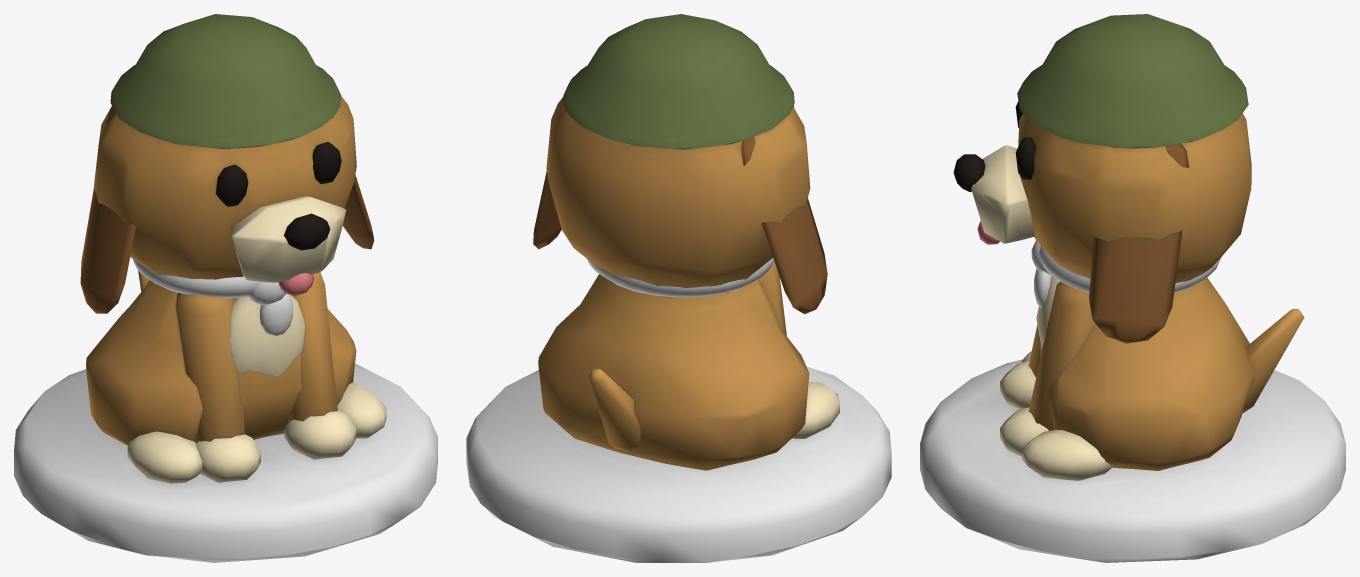
The model's file is dog.glb.
3 renders of one model, left to right at view 1: azimuth 30°, elevation 25°; view 2: azimuth 150°, elevation 25°; view 3: azimuth 270°, elevation 25°, orthographic.
Parts seen in each view (by area): view 1: TeamColor_Base, Head, Helmet, Body, Leg_Front_R, Muzzle, Ear_R, Leg_Front_L, Belly, TeamColor_Scarf, Paw_Hind_R, Paw_Front_L (+7 smaller); view 2: TeamColor_Base, Body, Head, Helmet, Ear_R, Tail, TeamColor_Scarf, Paw_Hind_R, Ear_L, Leg_Front_R; view 3: TeamColor_Base, Body, Head, Helmet, Ear_L, Leg_Front_L, Muzzle, Paw_Hind_L, Tail, TeamColor_Scarf, Paw_Front_L, Paw_Front_R (+3 smaller).
Part boxes in pixels (left/top/right/bottom): TeamColor_Base: left=14, top=363, right=437, bottom=562; Head: left=94, top=96, right=356, bottom=279; Helmet: left=110, top=14, right=341, bottom=149; Body: left=86, top=280, right=356, bottom=445; Leg_Front_R: left=175, top=292, right=244, bottom=443; Muzzle: left=231, top=196, right=345, bottom=282; Ear_R: left=80, top=107, right=136, bottom=313; Leg_Front_L: left=287, top=272, right=337, bottom=423; Belly: left=230, top=294, right=305, bottom=376; TeamColor_Scarf: left=133, top=259, right=292, bottom=335; Paw_Hind_R: left=127, top=431, right=202, bottom=483; Paw_Front_L: left=284, top=410, right=356, bottom=459; TeamColor_Base: left=466, top=367, right=891, bottom=562; Body: left=538, top=274, right=809, bottom=470; Head: left=546, top=97, right=810, bottom=297; Helmet: left=563, top=14, right=794, bottom=149; Ear_R: left=741, top=136, right=827, bottom=314; Tail: left=589, top=368, right=640, bottom=452; TeamColor_Scarf: left=587, top=258, right=773, bottom=297; Paw_Hind_R: left=792, top=382, right=839, bottom=438; Ear_L: left=533, top=103, right=564, bottom=249; Leg_Front_R: left=758, top=260, right=786, bottom=335; TeamColor_Base: left=920, top=359, right=1345, bottom=562; Body: left=1040, top=277, right=1254, bottom=470; Head: left=1018, top=113, right=1251, bottom=282; Helmet: left=1017, top=14, right=1248, bottom=148; Ear_L: left=1089, top=143, right=1189, bottom=343; Leg_Front_L: left=1028, top=281, right=1094, bottom=430; Muzzle: left=971, top=145, right=1034, bottom=243; Paw_Hind_L: left=1021, top=429, right=1113, bottom=480; Tail: left=1242, top=309, right=1304, bottom=413; TeamColor_Scarf: left=1031, top=240, right=1220, bottom=308; Paw_Front_L: left=1000, top=407, right=1048, bottom=456; Paw_Front_R: left=1000, top=360, right=1035, bottom=409.
Bounding box in the file's own units: 0.0419 × 0.0487 × 0.0419.
Materials: 1 (1 with a texture image).
